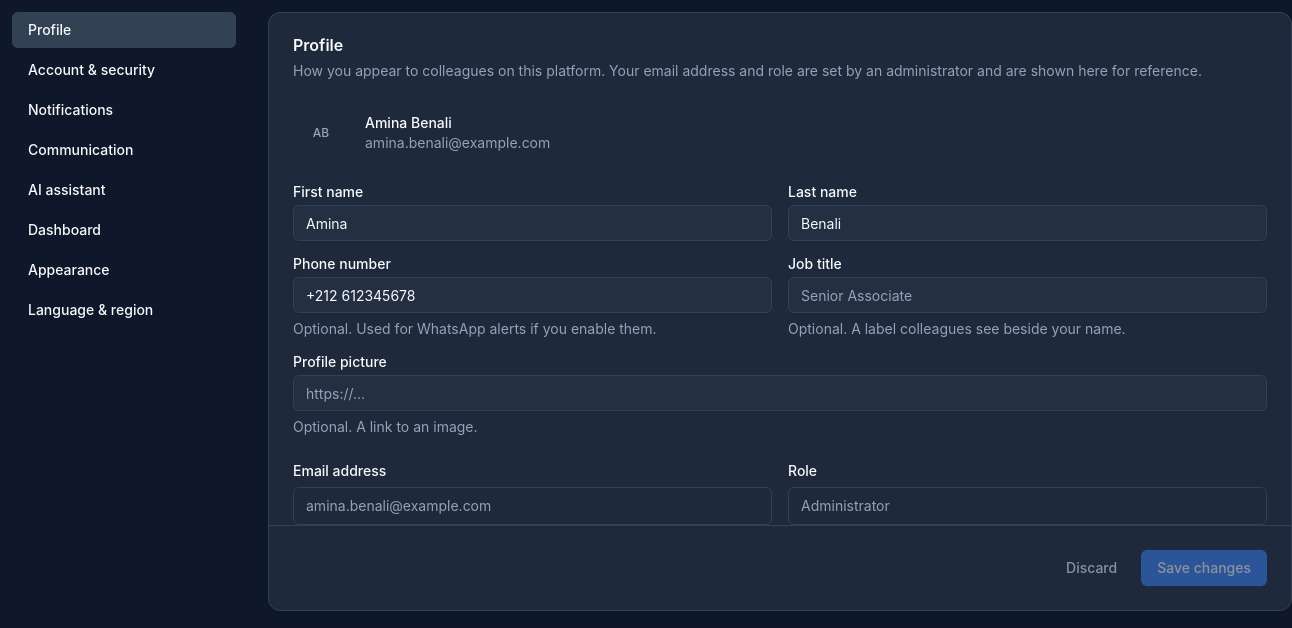
it: setting controls › renders a control per value type, from the server's definitions
The width and height of the screenshot is (1292, 628).
Step 1. Click the button "AI assistant" → x=124, y=190, box [12, 172, 236, 208]
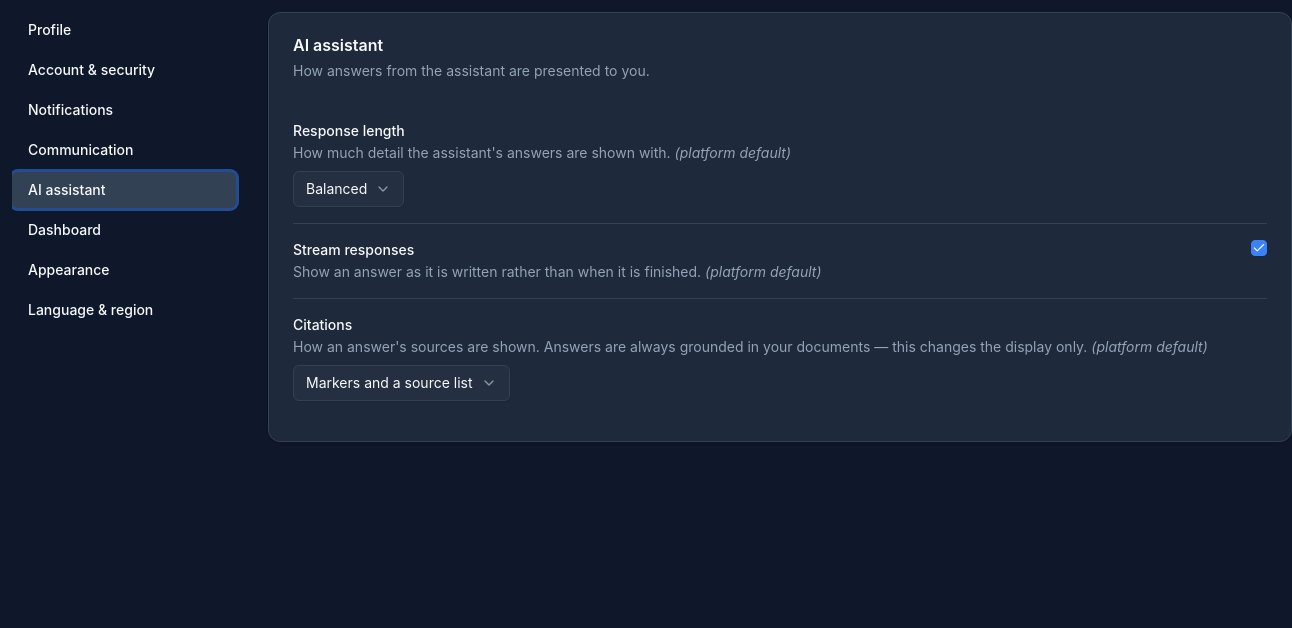
Now the dropdown named "response length" is shown, box [293, 171, 404, 207]
Now the checkbox named "stream responses" is shown, box [1251, 240, 1267, 256]
